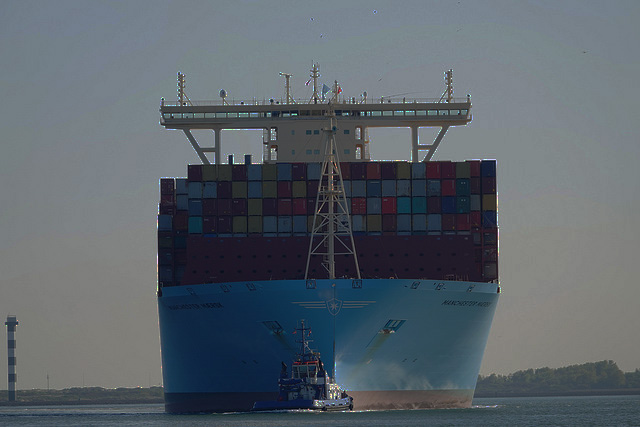container_ship: (155, 64, 500, 417)
tug_boat: (252, 324, 357, 412)
